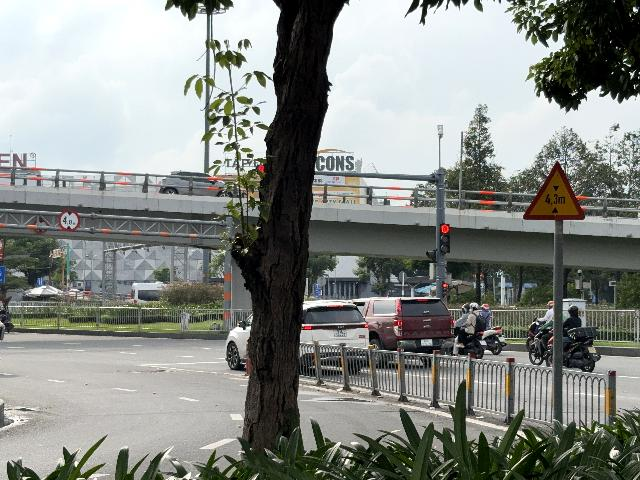chieu-cao-tinh-khong-thuc-te: (523, 161, 584, 220)
